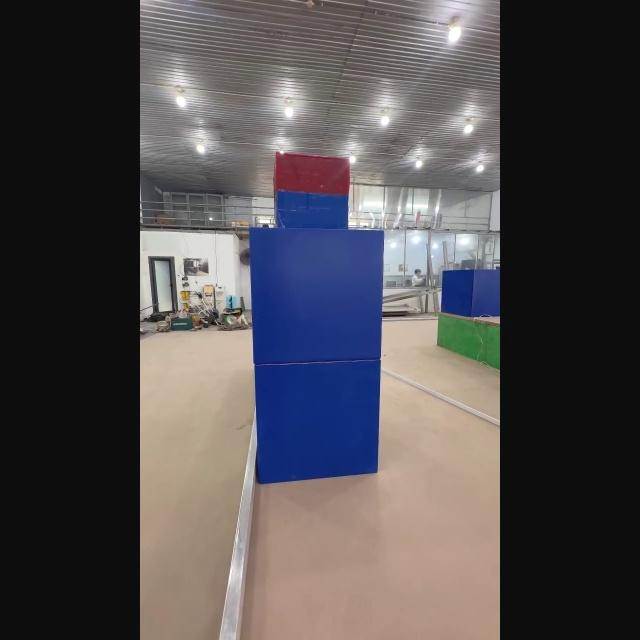earth_block: (243, 226, 387, 364), (252, 359, 384, 487)
sky_block: (270, 148, 354, 228)
